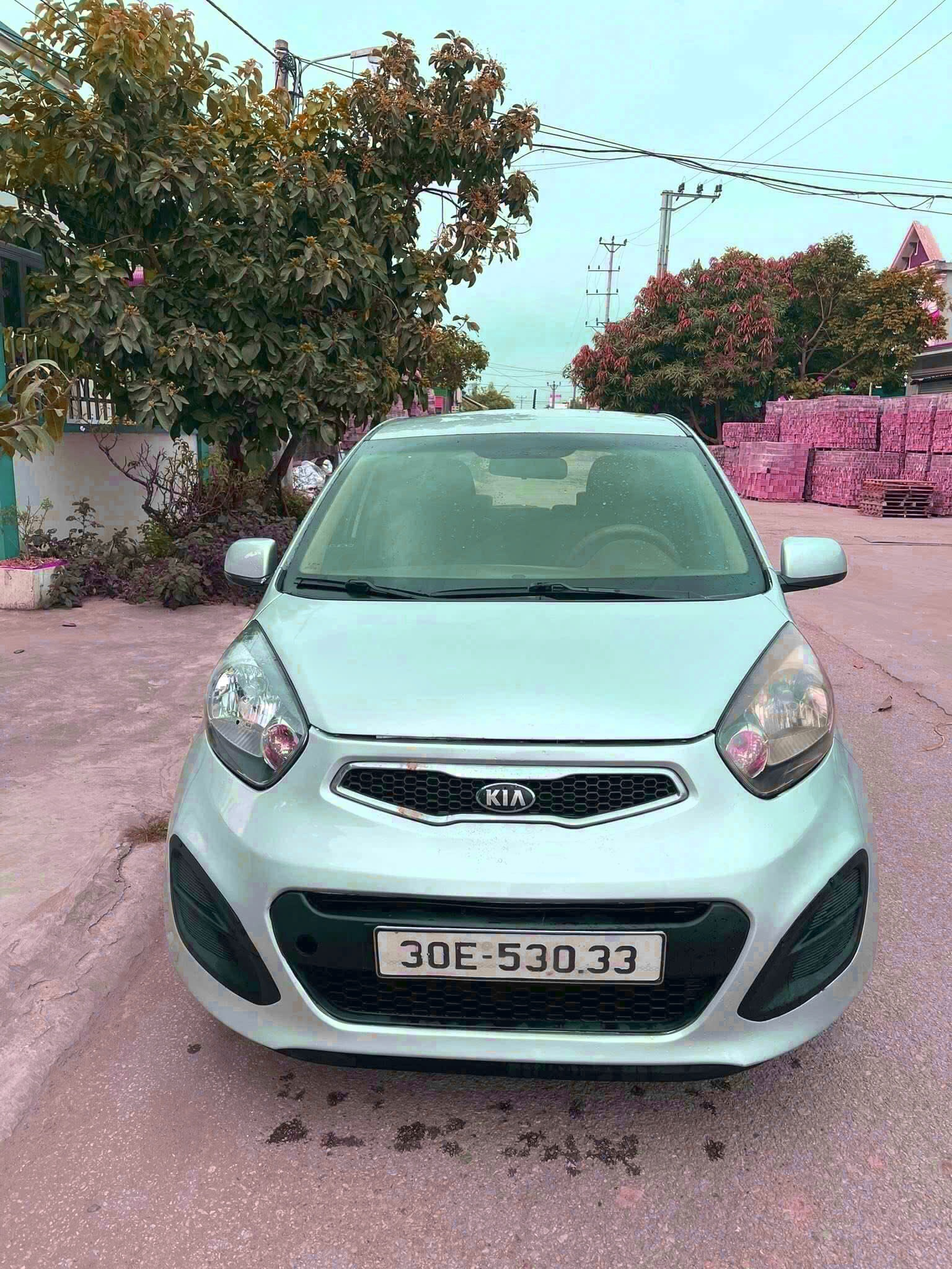Bien-so: (385, 898, 660, 957)
